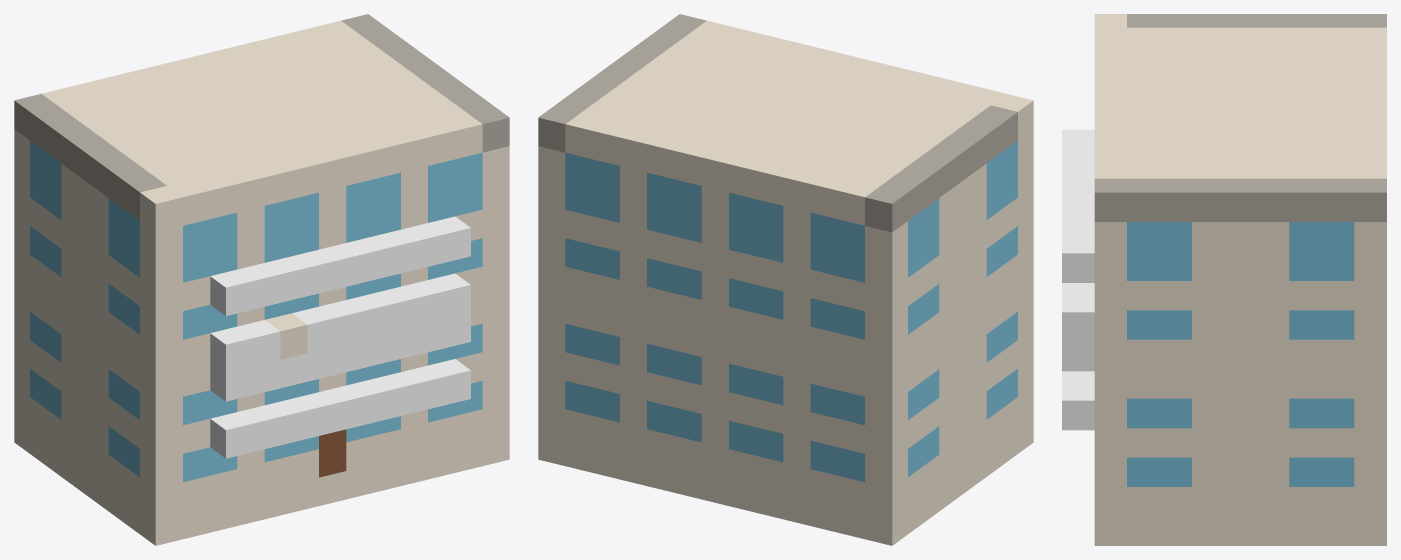
Rendered from apartment.glb.
The picture shows the model from 3 angles, left to right: view 1: azimuth 30°, elevation 25°; view 2: azimuth 150°, elevation 25°; view 3: azimuth 270°, elevation 25°; orthographic projection. The views are drawn at different scales.
Parts seen in each view (by area): view 1: apartment_wall_cream, apartment_white, apartment_window, apartment_roof_flat, apartment_door; view 2: apartment_wall_cream, apartment_window, apartment_roof_flat; view 3: apartment_wall_cream, apartment_window, apartment_roof_flat, apartment_white.
Boxes of the visible parts, bbox=[...] form: apartment_wall_cream: bbox=[14, 20, 509, 545]; apartment_white: bbox=[210, 216, 470, 458]; apartment_window: bbox=[30, 140, 482, 482]; apartment_roof_flat: bbox=[14, 14, 509, 220]; apartment_door: bbox=[319, 429, 346, 477]; apartment_wall_cream: bbox=[538, 20, 1033, 545]; apartment_window: bbox=[565, 140, 1017, 482]; apartment_roof_flat: bbox=[538, 14, 1017, 232]; apartment_wall_cream: bbox=[1094, 14, 1386, 545]; apartment_window: bbox=[1127, 222, 1354, 486]; apartment_roof_flat: bbox=[1094, 14, 1386, 221]; apartment_white: bbox=[1062, 129, 1094, 430].
Size of the model in its own units: 15.82 by 14.6 by 12.17.
